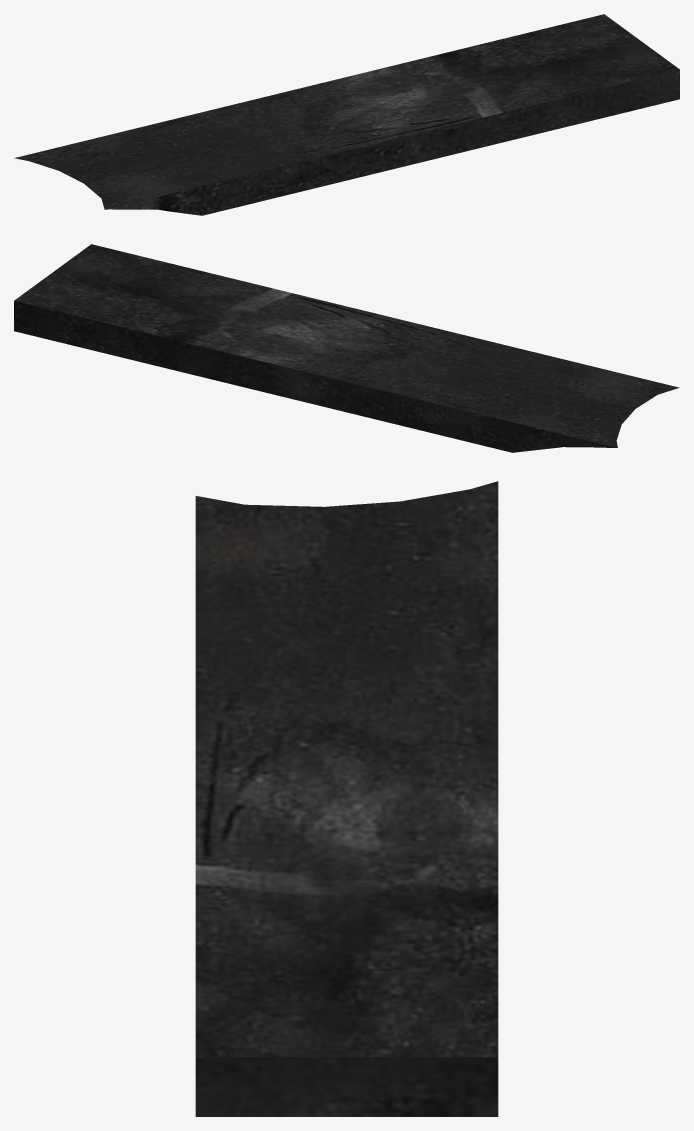
File: SM_WoodBeam_09.fbx
3 views of the same model, one above another, from view 1: azimuth 30°, elevation 25°; view 2: azimuth 150°, elevation 25°; view 3: azimuth 270°, elevation 25° (orthographic). The views are drawn at different scales.
Parts seen in each view (by area): view 1: SM_WoodBeam_09; view 2: SM_WoodBeam_09; view 3: SM_WoodBeam_09.
Part boxes in pixels (left/top/right/bottom): SM_WoodBeam_09: left=14, top=14, right=679, bottom=215; SM_WoodBeam_09: left=14, top=244, right=679, bottom=452; SM_WoodBeam_09: left=195, top=481, right=498, bottom=1116.
Bounding box in the file's own units: 192 × 42.57 × 9.24.
1 material, 1 textured.
